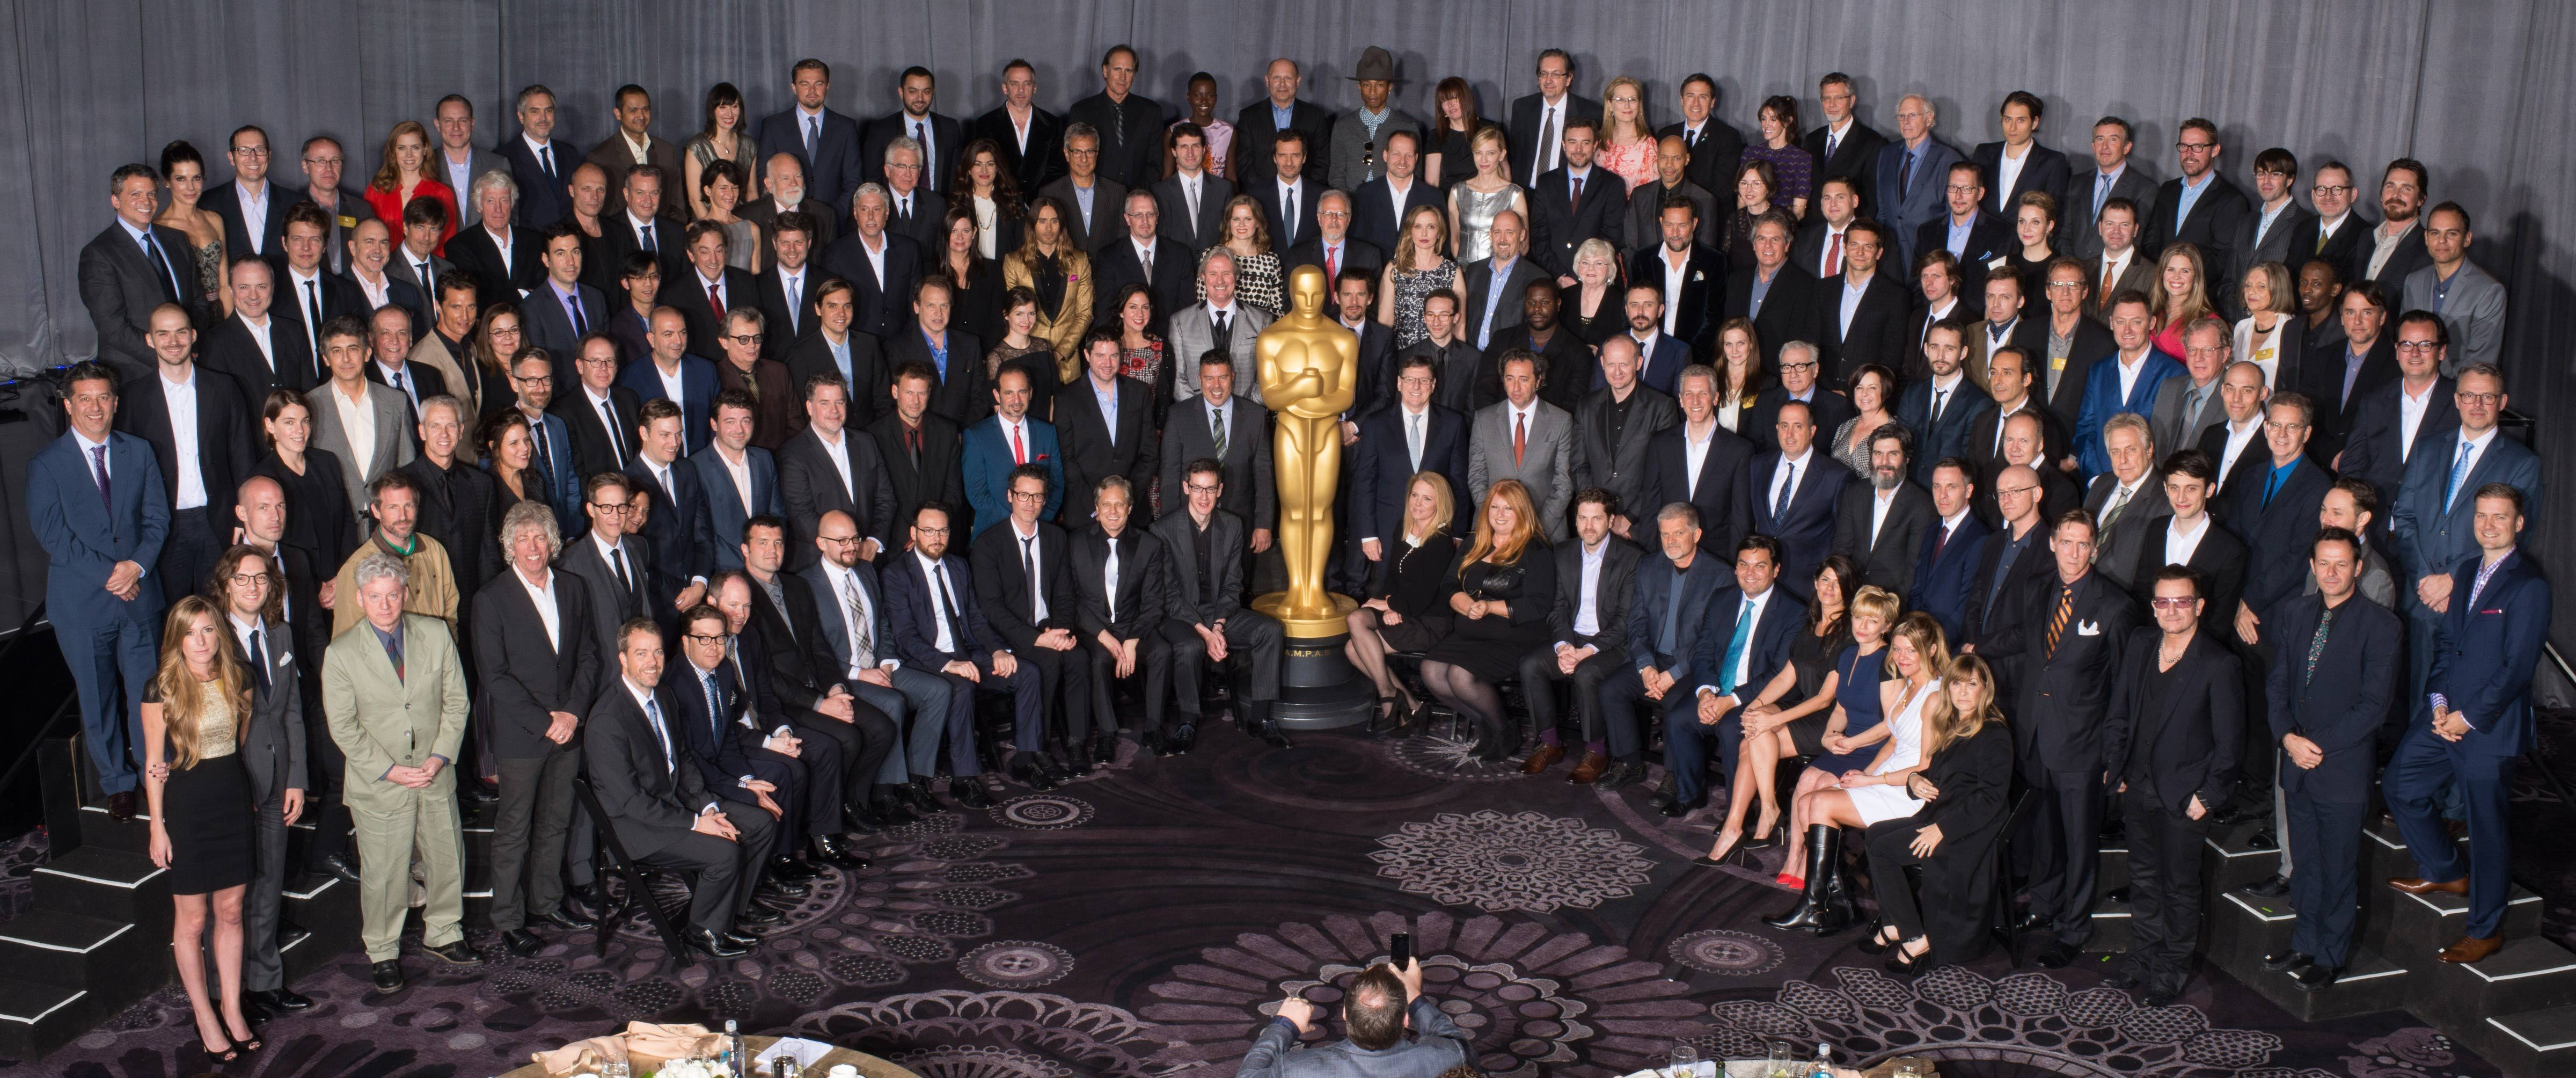bad: (250, 490, 297, 537), (647, 421, 688, 462), (1925, 470, 1966, 511), (2170, 131, 2211, 173), (2054, 532, 2095, 574), (2379, 176, 2420, 217), (2152, 590, 2193, 631), (1978, 360, 2019, 399), (751, 527, 790, 569), (123, 181, 163, 222), (631, 639, 670, 680), (279, 408, 319, 449), (2108, 311, 2149, 350), (2339, 301, 2379, 342), (582, 345, 621, 386), (233, 274, 274, 314), (355, 225, 394, 266), (692, 626, 733, 666), (720, 408, 759, 449), (2308, 176, 2348, 217), (1920, 337, 1962, 376), (2397, 337, 2438, 376), (2459, 386, 2500, 426), (550, 238, 590, 279), (233, 136, 274, 176), (2233, 269, 2272, 311), (181, 621, 220, 662), (2219, 376, 2259, 417), (2104, 439, 2144, 480), (772, 163, 813, 202), (1943, 670, 1983, 712), (2180, 337, 2219, 376), (2313, 555, 2353, 595), (230, 569, 269, 608), (813, 391, 853, 431), (74, 391, 113, 431), (2264, 417, 2303, 457), (728, 324, 767, 363), (2425, 222, 2464, 261), (2469, 506, 2509, 546), (2162, 475, 2201, 514), (1988, 480, 2027, 519), (1730, 551, 1769, 590), (363, 587, 402, 626), (381, 493, 421, 532), (595, 493, 634, 532), (287, 230, 327, 269), (154, 324, 194, 363), (444, 293, 483, 332), (2313, 498, 2353, 537), (2160, 261, 2195, 296), (1571, 506, 1605, 541), (2090, 131, 2124, 166), (795, 72, 830, 107), (2293, 273, 2328, 307), (521, 373, 555, 408), (721, 592, 756, 626), (1815, 184, 1850, 217), (621, 99, 655, 131), (1656, 523, 1690, 555), (1500, 370, 1534, 403), (524, 99, 559, 131), (1408, 217, 1441, 251), (1096, 496, 1130, 529), (309, 154, 343, 187), (1679, 87, 1712, 122), (1199, 370, 1234, 403), (918, 518, 951, 552), (1520, 291, 1552, 325), (440, 113, 473, 148), (503, 432, 536, 467), (1983, 288, 2016, 322), (899, 381, 933, 414), (376, 325, 411, 358), (892, 154, 927, 187), (1850, 376, 1883, 411), (1066, 140, 1101, 173), (480, 192, 514, 225), (1485, 500, 1520, 532), (1319, 202, 1352, 237), (695, 240, 729, 273), (2249, 166, 2284, 199), (411, 217, 444, 251), (2012, 210, 2045, 243), (1122, 296, 1155, 329), (1623, 296, 1656, 329), (821, 296, 854, 329), (659, 322, 692, 355), (629, 181, 662, 214), (2001, 429, 2034, 462), (904, 81, 936, 113), (1089, 343, 1122, 376), (1912, 266, 1945, 299), (1679, 385, 1712, 417), (1776, 417, 1809, 450), (1942, 181, 1975, 214), (1204, 266, 1237, 299), (1534, 62, 1567, 95), (922, 296, 954, 329), (1000, 385, 1033, 417), (425, 417, 458, 450), (1998, 110, 2031, 143), (1886, 641, 1919, 674), (1337, 284, 1370, 317), (1776, 355, 1809, 388), (172, 169, 205, 202), (577, 181, 609, 214), (1405, 485, 1437, 518), (1015, 485, 1048, 518), (830, 529, 862, 562), (488, 322, 521, 355), (1186, 481, 1219, 514), (1868, 444, 1901, 477), (329, 343, 361, 376), (2050, 278, 2083, 311), (514, 529, 547, 562), (629, 266, 662, 299), (1850, 611, 1883, 644), (1229, 212, 1257, 240), (394, 141, 422, 169), (969, 156, 997, 184), (1893, 107, 1920, 135), (1275, 148, 1303, 176), (1819, 92, 1847, 120), (1612, 92, 1640, 120), (1268, 69, 1296, 97), (1423, 307, 1451, 335), (1005, 76, 1033, 104), (1755, 233, 1782, 261), (1661, 219, 1689, 246), (1755, 110, 1782, 138), (1488, 225, 1516, 253), (1033, 215, 1061, 243), (1401, 373, 1429, 401), (1390, 148, 1418, 176), (1720, 335, 1748, 363), (1109, 64, 1137, 92), (1654, 150, 1682, 177), (1012, 306, 1040, 334), (777, 237, 805, 265), (1130, 209, 1158, 237), (1847, 240, 1874, 268), (715, 177, 743, 205), (1176, 141, 1204, 169), (1566, 135, 1594, 163), (858, 202, 885, 230), (2103, 219, 2131, 246), (1577, 255, 1605, 283), (1359, 79, 1387, 107), (1735, 176, 1763, 202), (1602, 358, 1630, 385), (1189, 89, 1216, 117), (716, 102, 741, 125), (950, 225, 973, 248), (1472, 148, 1495, 171)
